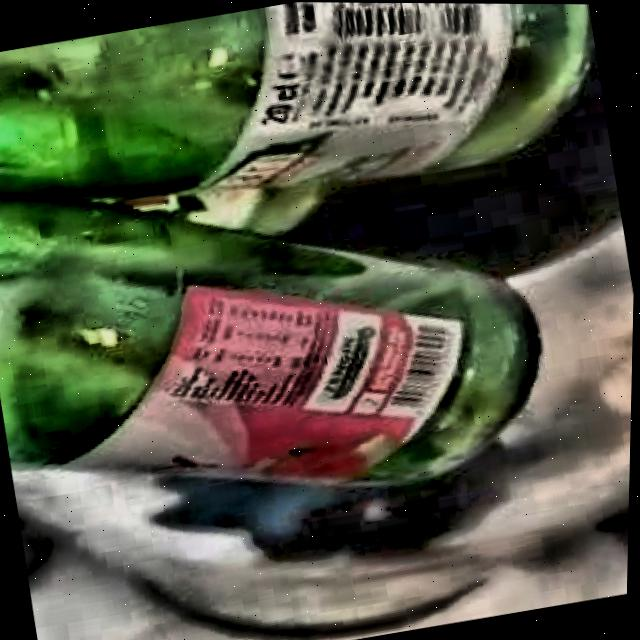glass: (0, 2, 601, 484)
